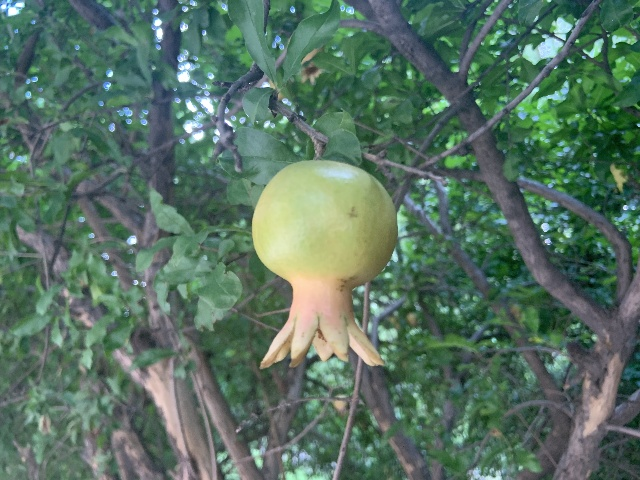mid-growth: (250, 159, 398, 370)
